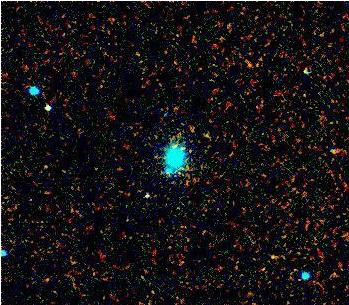star: (189, 119, 219, 149)
